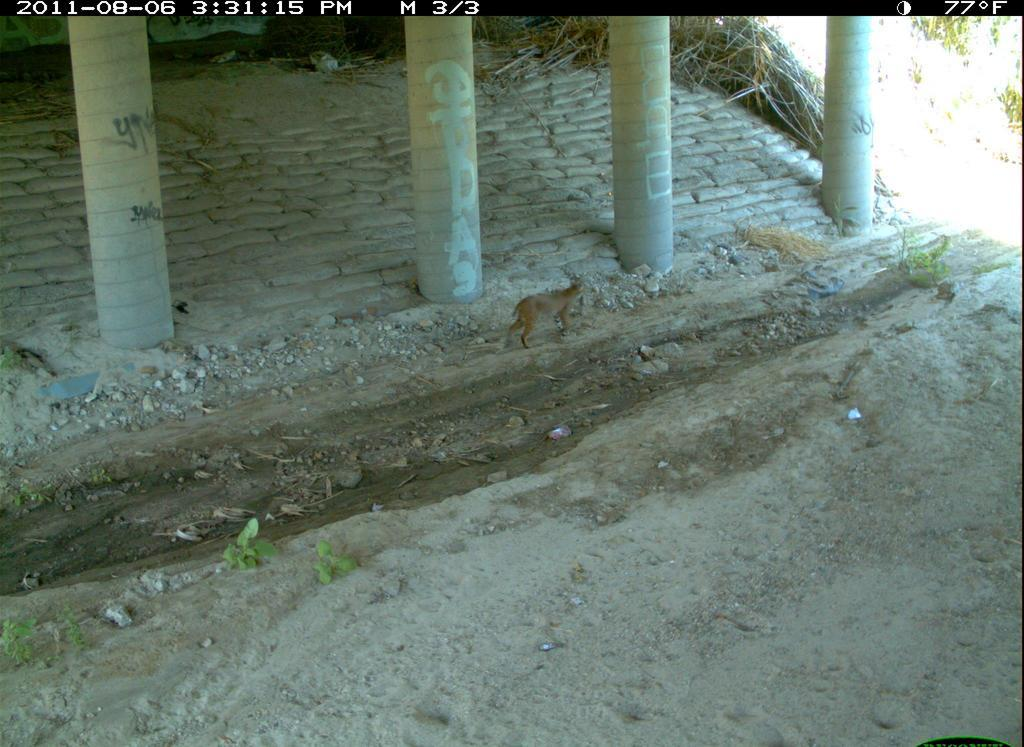bobcat: (996, 545, 1024, 710)
